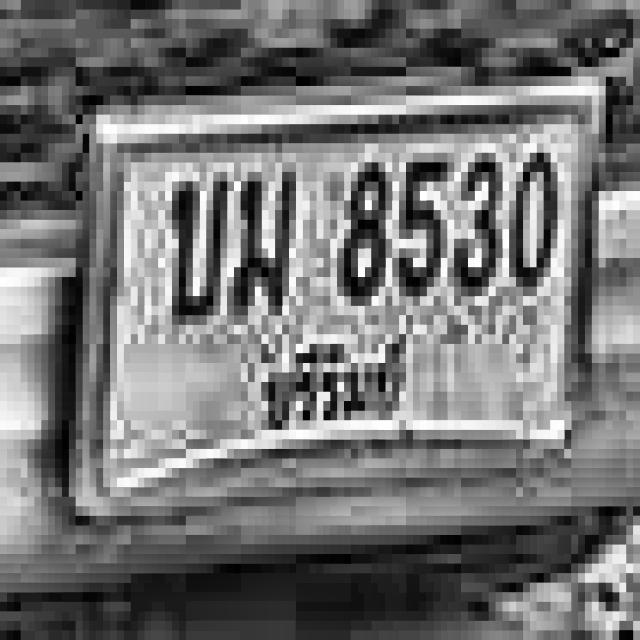license-plate: (59, 72, 618, 544)
